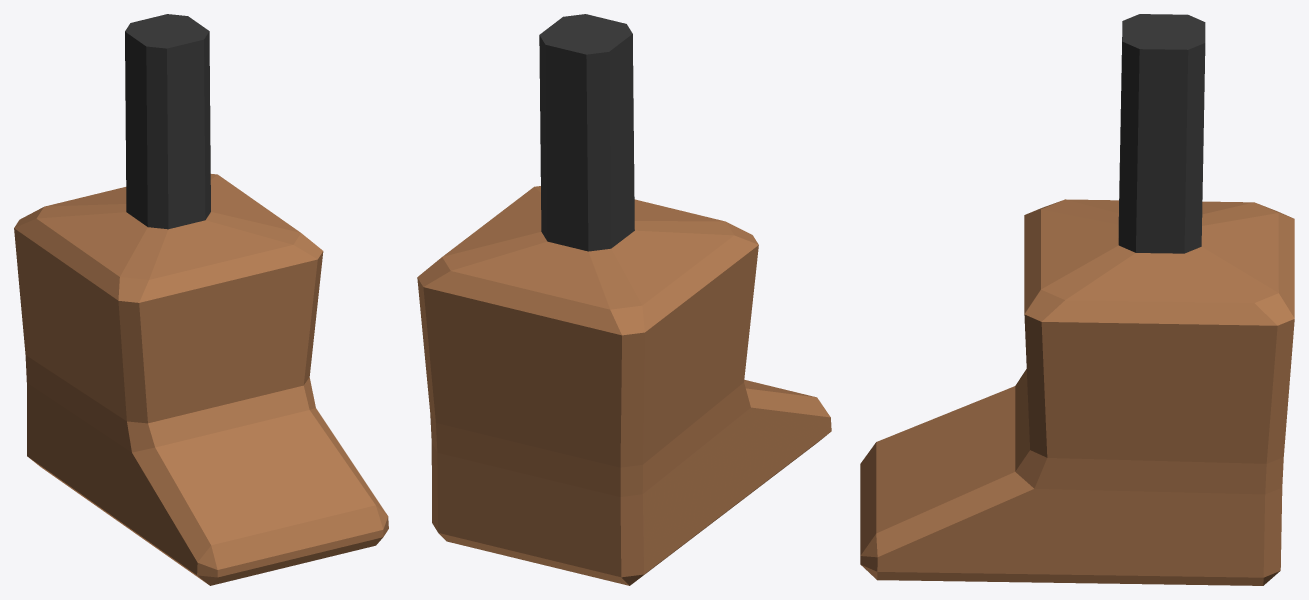
The model's file is foot_shoemaker.fbx.
3 views of the same model, side by side, from view 1: azimuth 30°, elevation 25°; view 2: azimuth 150°, elevation 25°; view 3: azimuth 270°, elevation 25° (orthographic). The views are drawn at different scales.
Visible parts, largest first — view 1: foot_shoemaker; view 2: foot_shoemaker; view 3: foot_shoemaker.
Part boxes in pixels (x1,y1,x2,y2): foot_shoemaker: (14, 14, 388, 585); foot_shoemaker: (417, 14, 831, 585); foot_shoemaker: (860, 14, 1294, 585).
Size of the model in its own units: 9.93 by 20.63 by 15.97.
